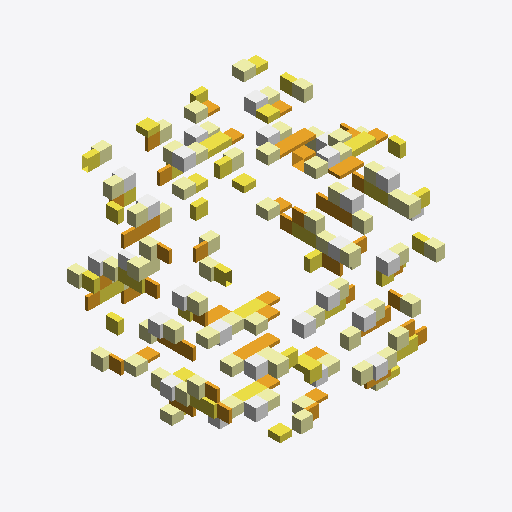
A Minecraft block model of 193 cuboids, rendered isometrically (azimuth 45°, elevation 35.3°) with the resource pack's own textures.
Parts seen in each view (by area): element 1, element 54.
Boxes of the visible parts, box(x1,y1,x2,y2) form: element 1: box(88, 76, 435, 435); element 54: box(275, 128, 315, 158).
Bounding box in the file's own units: 18 × 18 × 18.